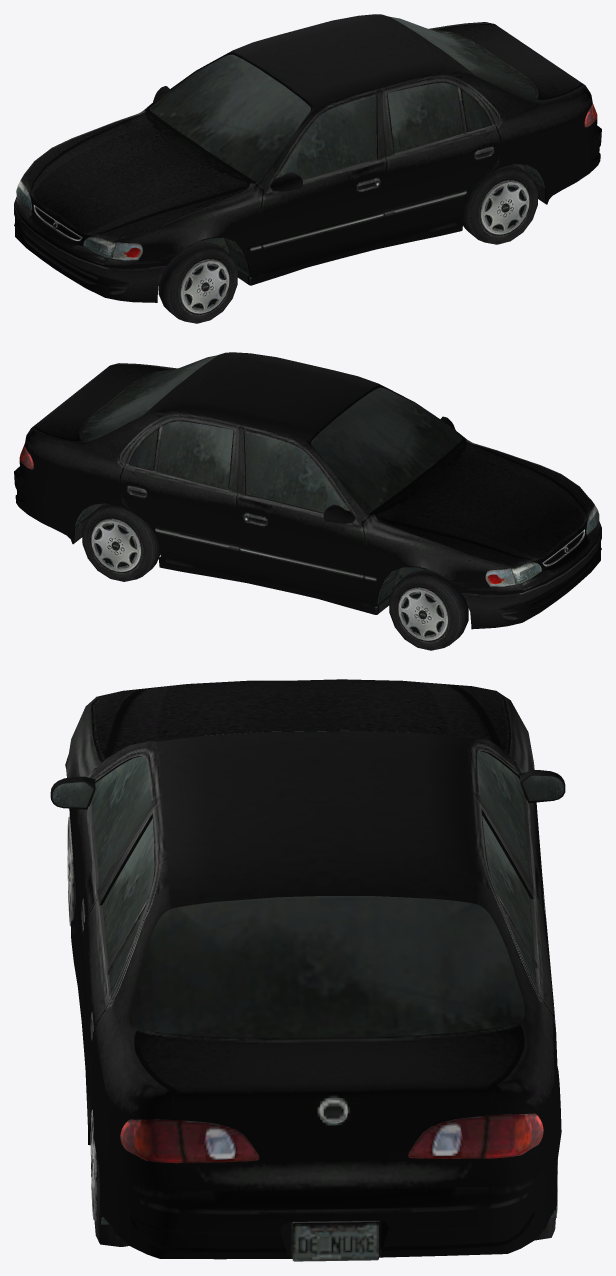
The model's file is black_car.fbx.
3 renders of one model, top to bottom at view 1: azimuth 30°, elevation 25°; view 2: azimuth 150°, elevation 25°; view 3: azimuth 270°, elevation 25°, orthographic. The views are drawn at different scales.
Visible parts, largest first — view 1: black_car.001; view 2: black_car.001; view 3: black_car.001.
Boxes of the visible parts, left/top/right/bottom form: black_car.001: left=14, top=14, right=601, bottom=323; black_car.001: left=14, top=352, right=601, bottom=650; black_car.001: left=50, top=679, right=565, bottom=1261.
Size of the model in its own units: 5.01 by 1.6 by 2.16.
Materials: 2 (2 with a texture image).
